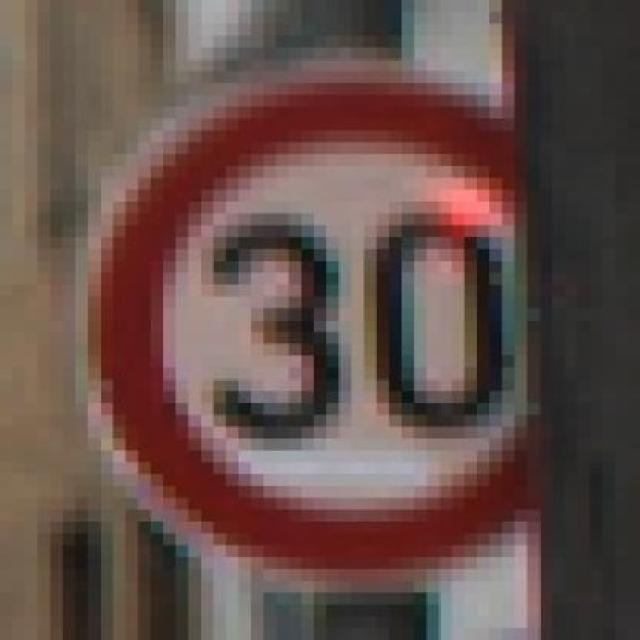forb_speed_over_30: (91, 77, 535, 588)
